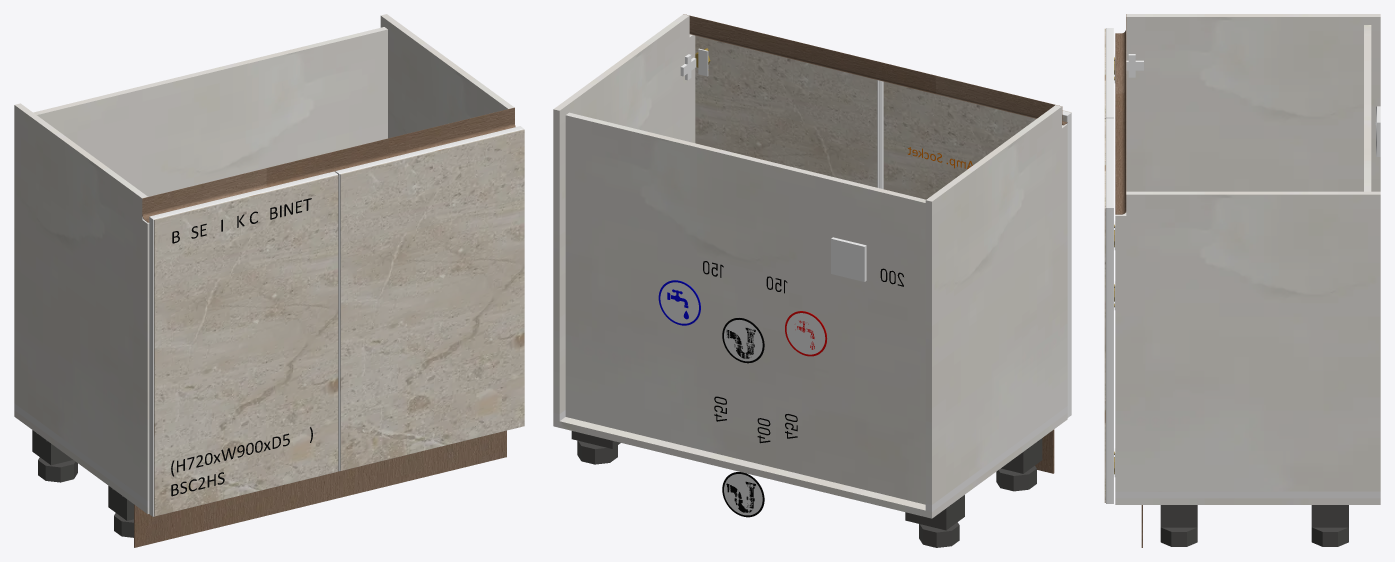
File: BSC2HS_CJ (H720xW900xD560).glb
3 views of the same model, side by side, from view 1: azimuth 30°, elevation 25°; view 2: azimuth 150°, elevation 25°; view 3: azimuth 270°, elevation 25° (orthographic). The views are drawn at different scales.
Size of what is drawn, in the model's own units: 0.9 by 0.82 by 0.5899.
Materials: 17 (3 with a texture image).
